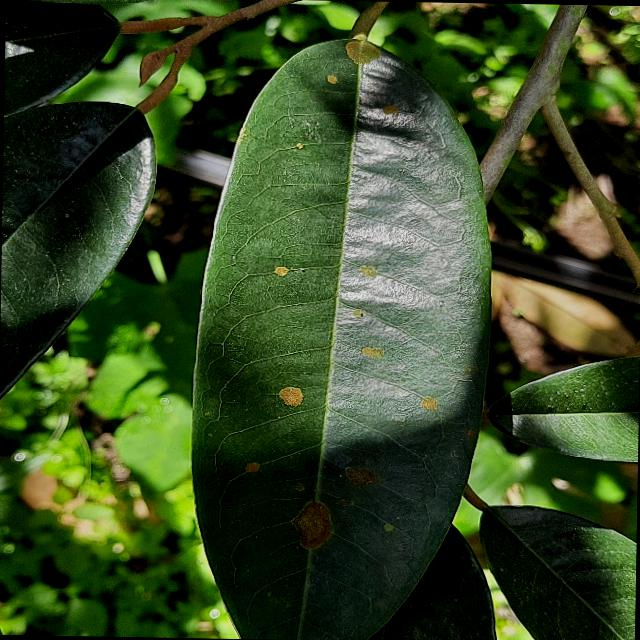Algal Leaf Spot: (180, 31, 504, 639)
